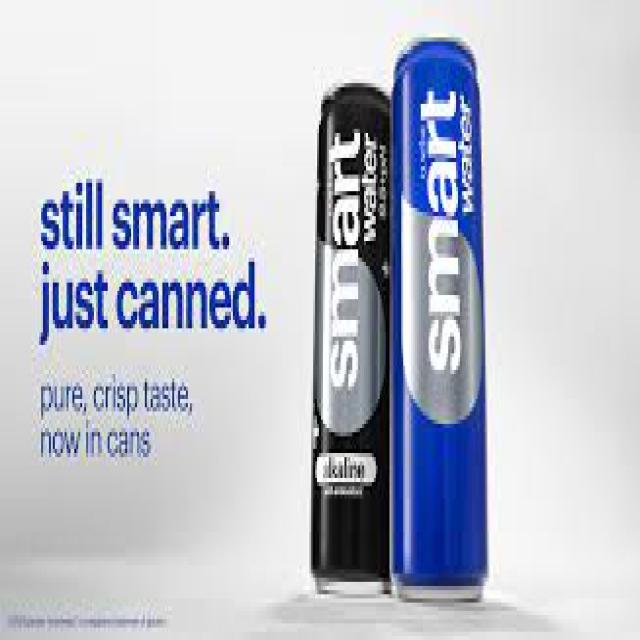Cans: (384, 25, 495, 603), (302, 67, 394, 615)
